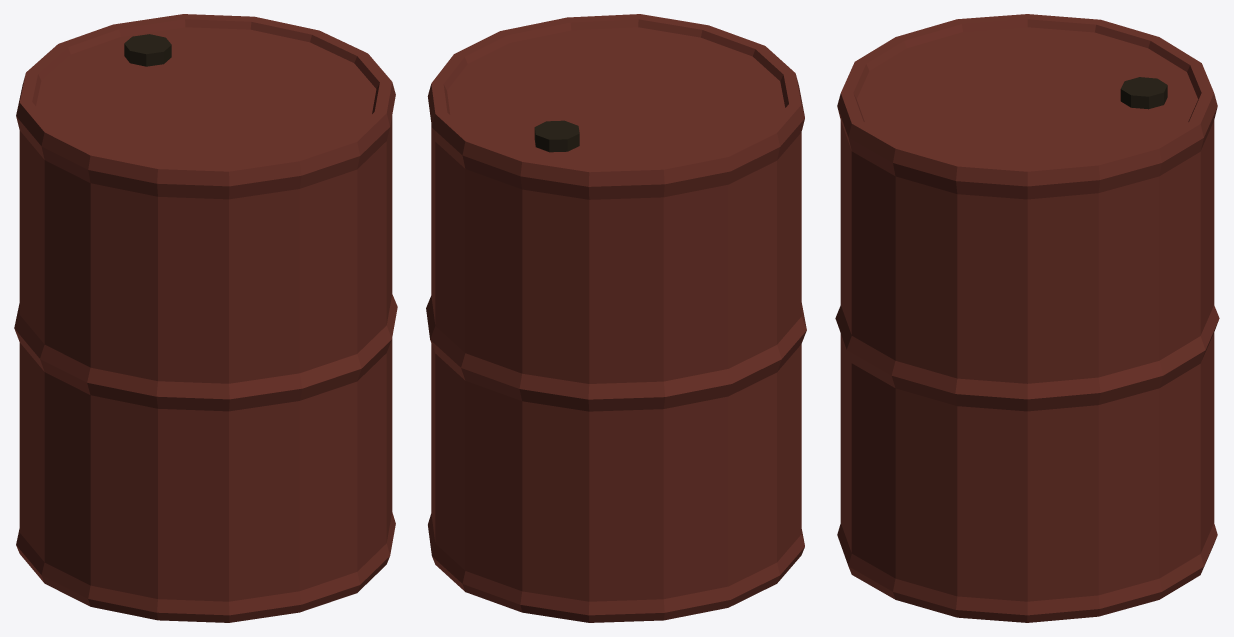
Rendered from Oil_Drum.fbx.
3 views of the same model, side by side, from view 1: azimuth 30°, elevation 25°; view 2: azimuth 150°, elevation 25°; view 3: azimuth 270°, elevation 25° (orthographic).
Parts seen in each view (by area): view 1: Oil_Drum; view 2: Oil_Drum; view 3: Oil_Drum.
Part boxes in pixels (<box>): Oil_Drum: <box>14,14,397,622</box>; Oil_Drum: <box>426,14,806,622</box>; Oil_Drum: <box>835,14,1219,622</box>.
Size of the model in its own units: 0.6174 by 0.8106 by 0.6174.
